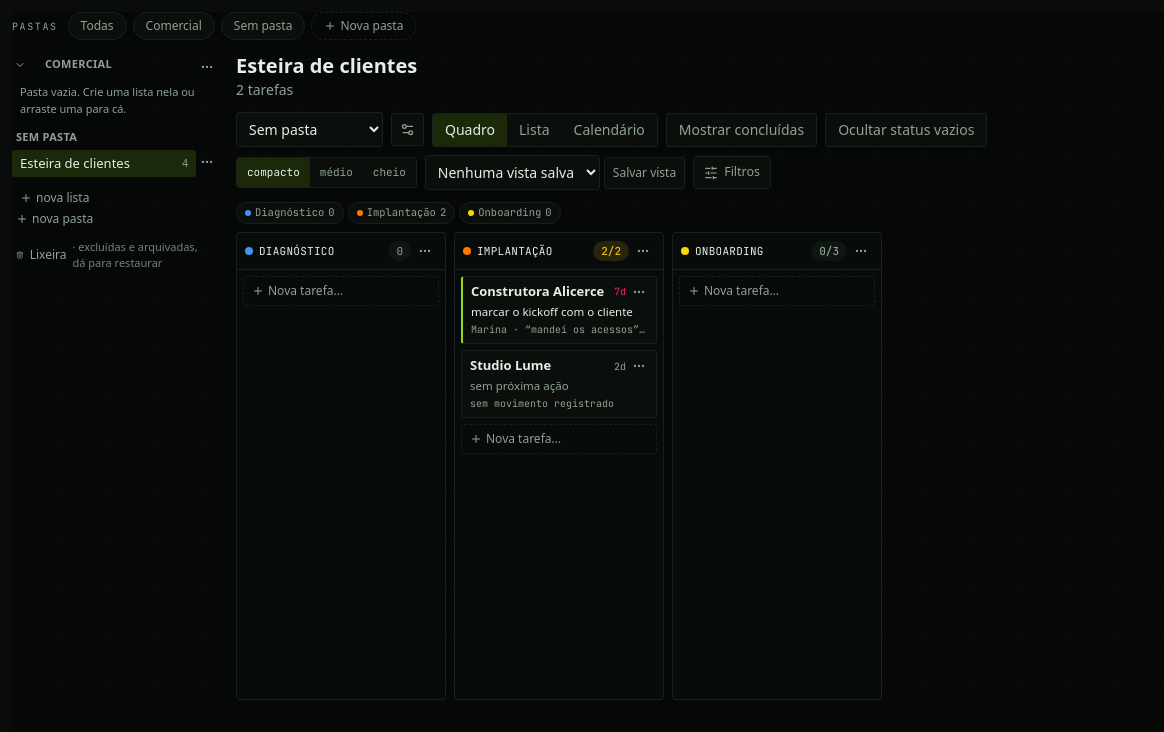
quadro denso na tela › a densidade grava no localStorage; o médio mostra o selo com link para o lead
The width and height of the screenshot is (1164, 732).
Expected: the text "Marina · “mandei os acessos” · há 1d" is shown, [471,322,648,337]
Step 1. Click the button with test id "trabalho-densidade-medio" → (336,173), box [310,158,363,187]
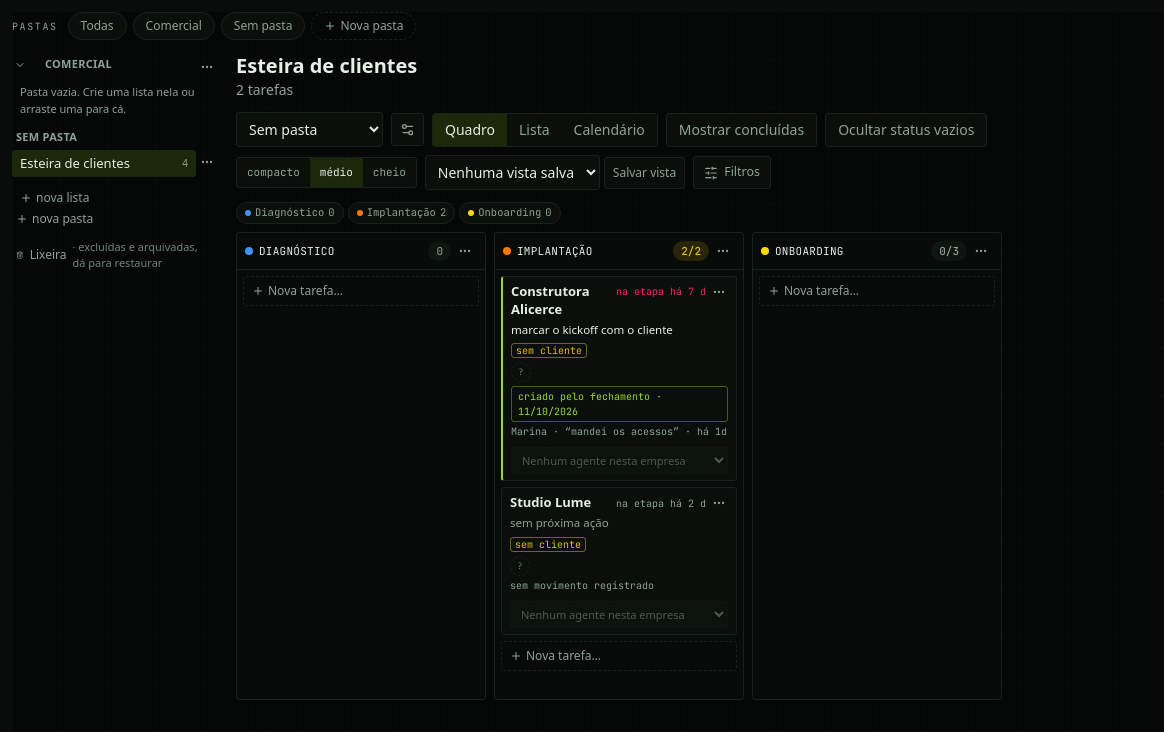
Expected: the link with test id "trabalho-procedencia-t-alicerce" reads "criado pelo fechamento · 11/10/2026", [511,386,728,422]
